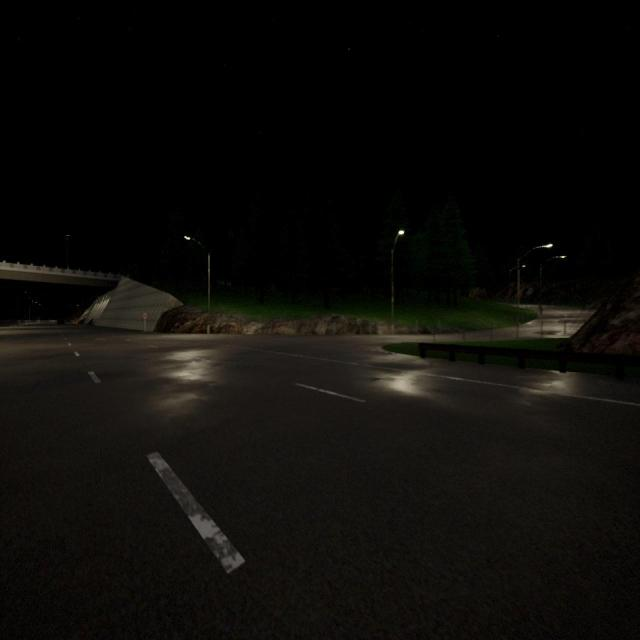Traffic_Signs: (142, 313, 148, 319)
Vehicle: (55, 318, 66, 326)
